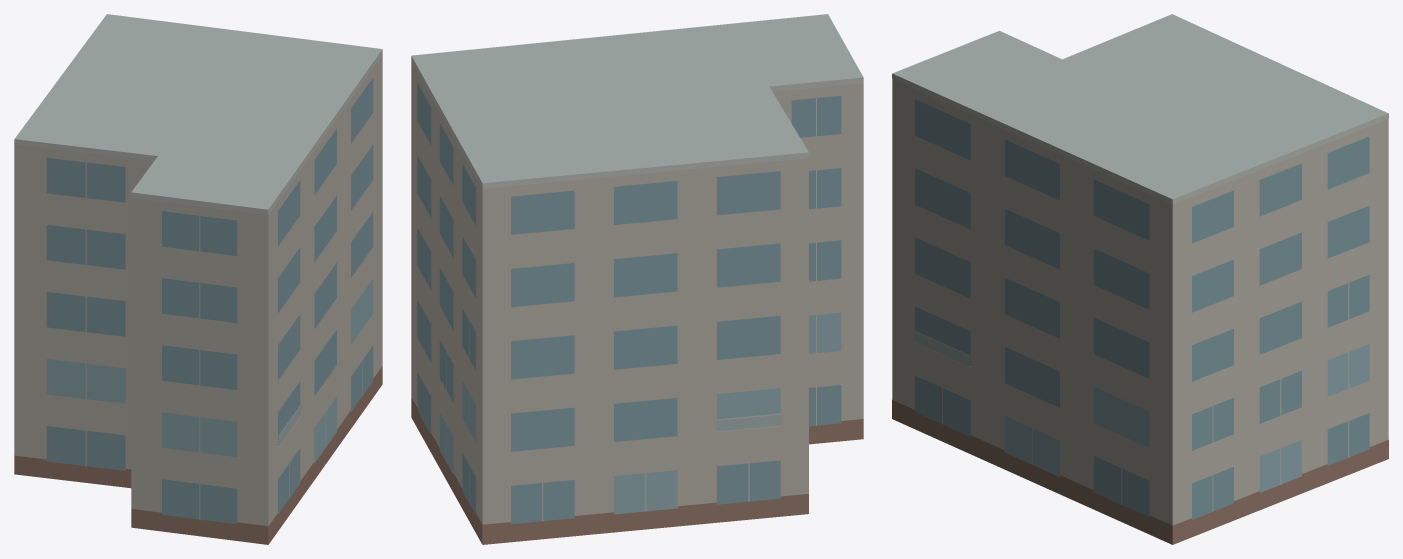
The model's file is survey-upis-33042971.glb.
3 views of the same model, side by side, from view 1: azimuth 30°, elevation 25°; view 2: azimuth 150°, elevation 25°; view 3: azimuth 270°, elevation 25° (orthographic). The views are drawn at different scales.
Parts seen in each view (by area): view 1: survey-upis-33042971.tmp; view 2: survey-upis-33042971.tmp; view 3: survey-upis-33042971.tmp.
Part boxes in pixels (x1,y1,x2,y2): survey-upis-33042971.tmp: (14,14,382,544); survey-upis-33042971.tmp: (411,14,863,544); survey-upis-33042971.tmp: (892,14,1388,544).
Bounding box in the file's own units: 18.07 × 15.7 × 20.45.
